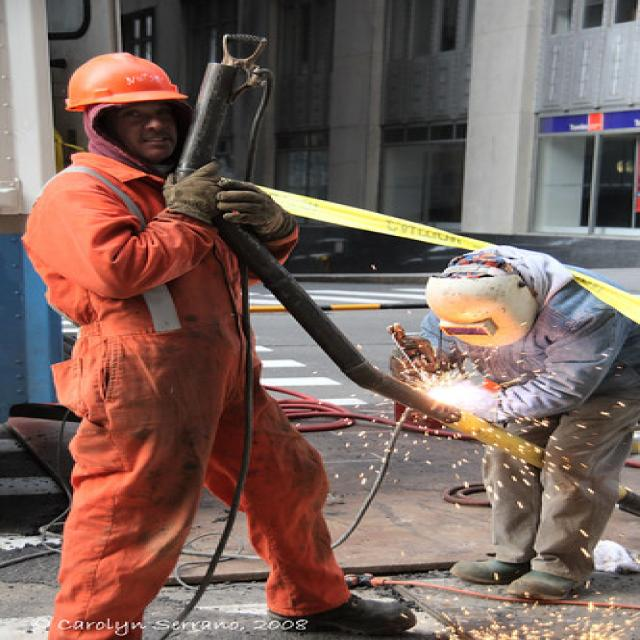Reflective-Jacket: (31, 137, 340, 616)
Safety-Helmet: (52, 45, 198, 122)
